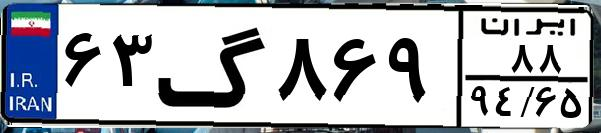3: (110, 28, 156, 98)
4: (495, 70, 520, 125)
5: (560, 70, 590, 125)
6: (330, 28, 385, 110), (57, 26, 110, 100), (535, 70, 560, 125)
8: (270, 28, 330, 110), (537, 27, 568, 80), (508, 27, 537, 80)
9: (385, 28, 445, 110), (470, 70, 495, 125)
گ: (156, 12, 270, 120)
